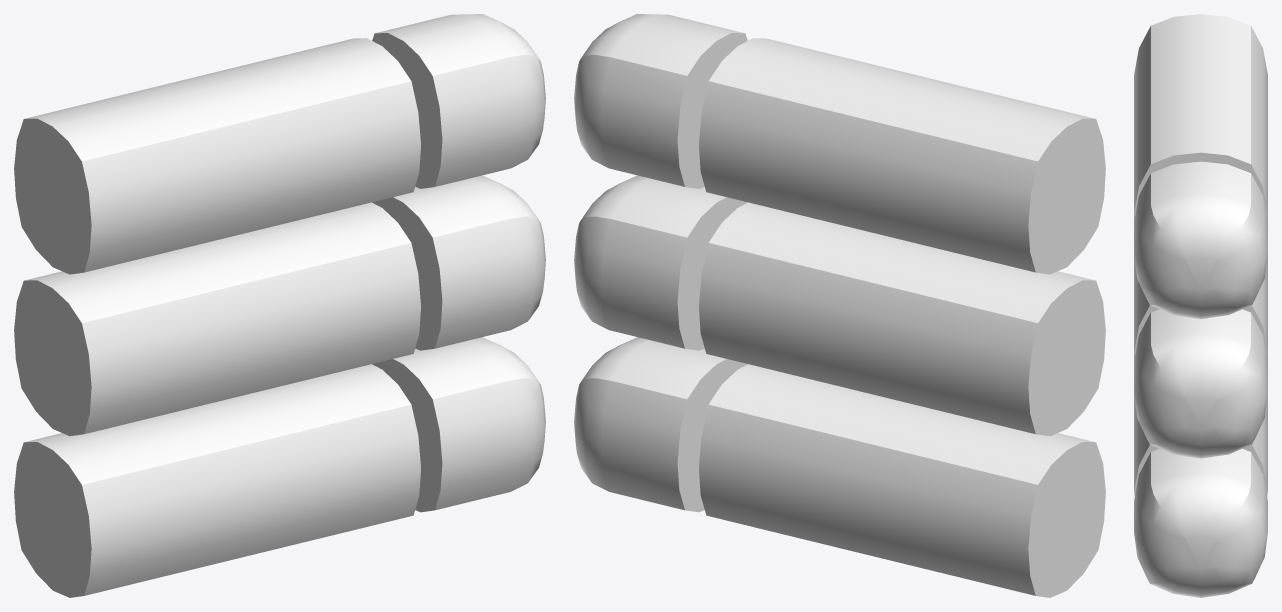
File: Ammo.fbx
3 views of the same model, side by side, from view 1: azimuth 30°, elevation 25°; view 2: azimuth 150°, elevation 25°; view 3: azimuth 270°, elevation 25° (orthographic). The views are drawn at different scales.
Parts seen in each view (by area): view 1: Ammo; view 2: Ammo; view 3: Ammo.
Part boxes in pixels (box(x1,y1,x2,y2)): Ammo: box(14, 14, 545, 597); Ammo: box(574, 14, 1105, 597); Ammo: box(1134, 14, 1267, 597).
Bounding box in the file's own units: 59.36 × 55.35 × 16.77.
